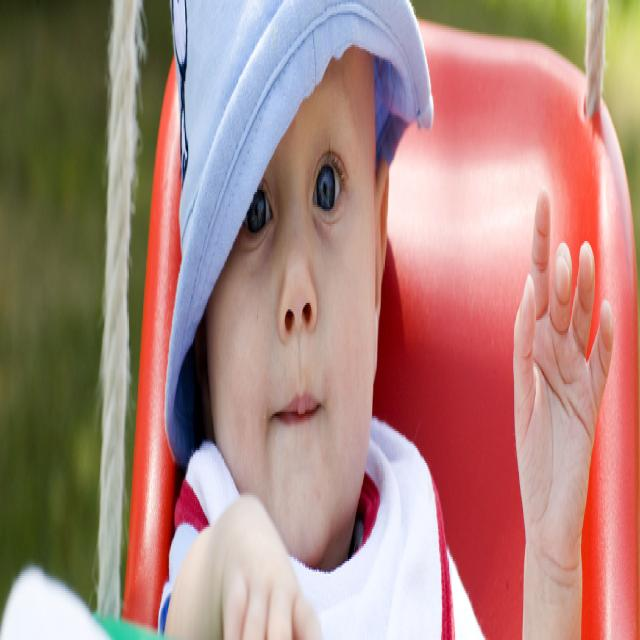child: (162, 1, 612, 640)
